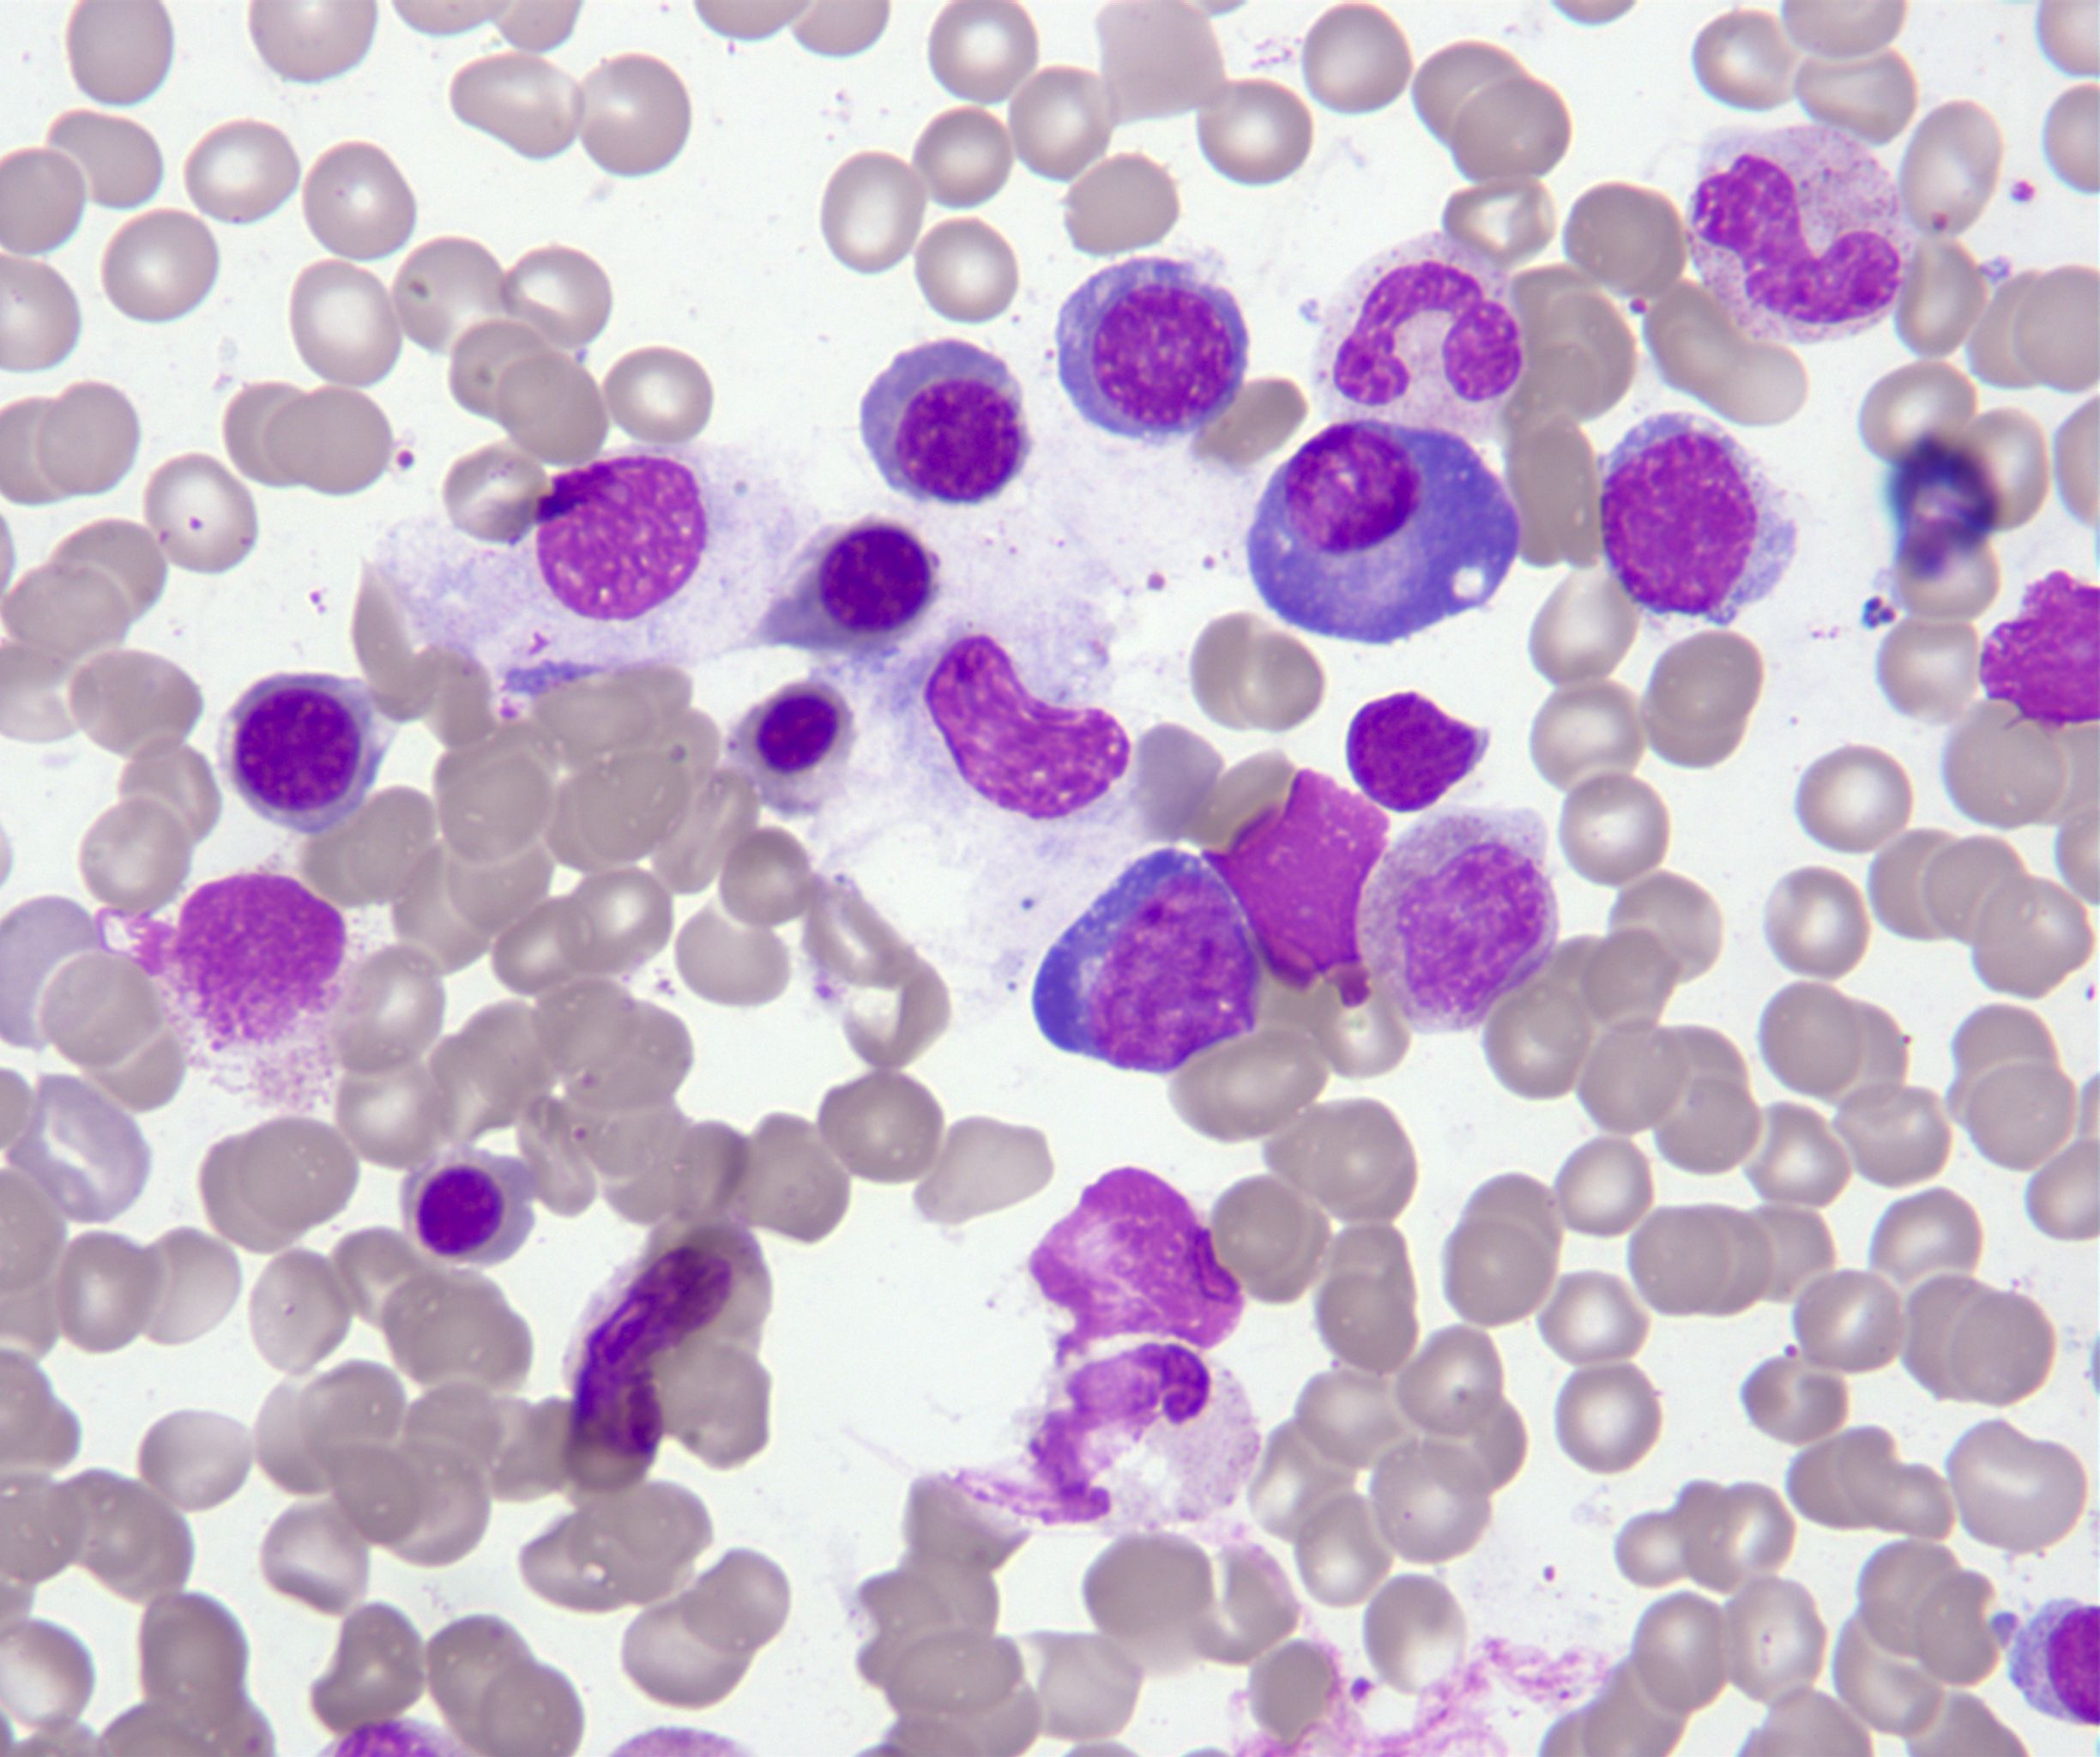1: (1024, 844, 1266, 1085)
23: (1047, 251, 1256, 452), (211, 665, 396, 843), (855, 335, 1038, 513)
24: (759, 513, 945, 665), (719, 675, 862, 825), (394, 1143, 546, 1274)
3: (1350, 799, 1563, 1036)
32: (1341, 687, 1493, 820)
5: (1680, 119, 1915, 352), (1306, 220, 1537, 448), (556, 1213, 760, 1464)
52: (1244, 414, 1524, 653)
x: (1591, 405, 1803, 633), (916, 623, 1139, 836), (1024, 1160, 1254, 1361), (173, 871, 356, 1054), (528, 452, 713, 628), (1974, 567, 2100, 742)
